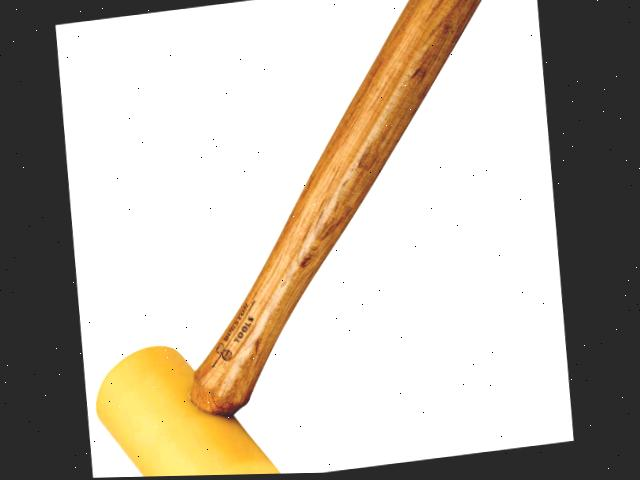hammer: (49, 0, 573, 479)
